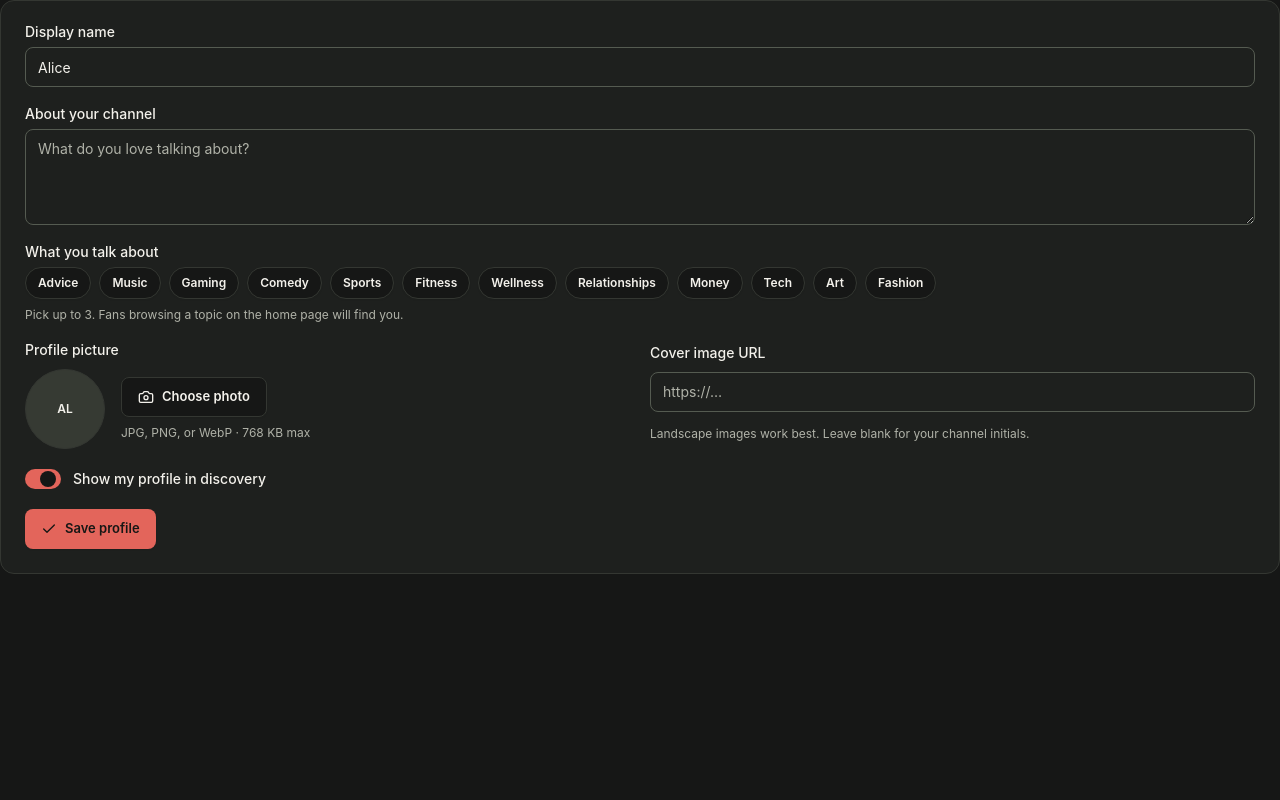
saves real profile fields and keeps a success confirmation after refetch
Replace the text in the field labelled "Display name" with "Alice Creates" at x=640, y=67, box top-left (25, 47), bottom-right (1255, 87)
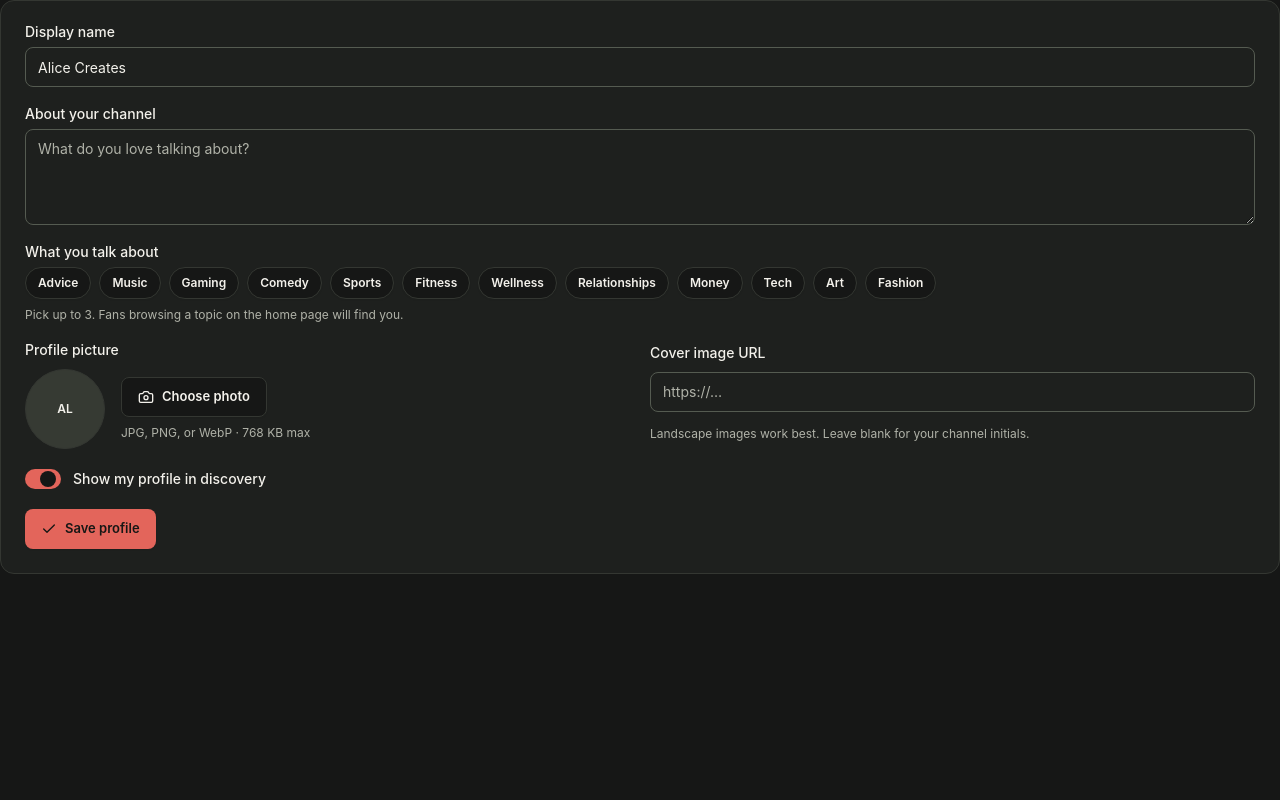
Type "Ceramics and conversation" into the text box labelled "About your channel".
click(640, 177); type("Ceramics and conversation")  # box top-left (25, 129), bottom-right (1255, 225)
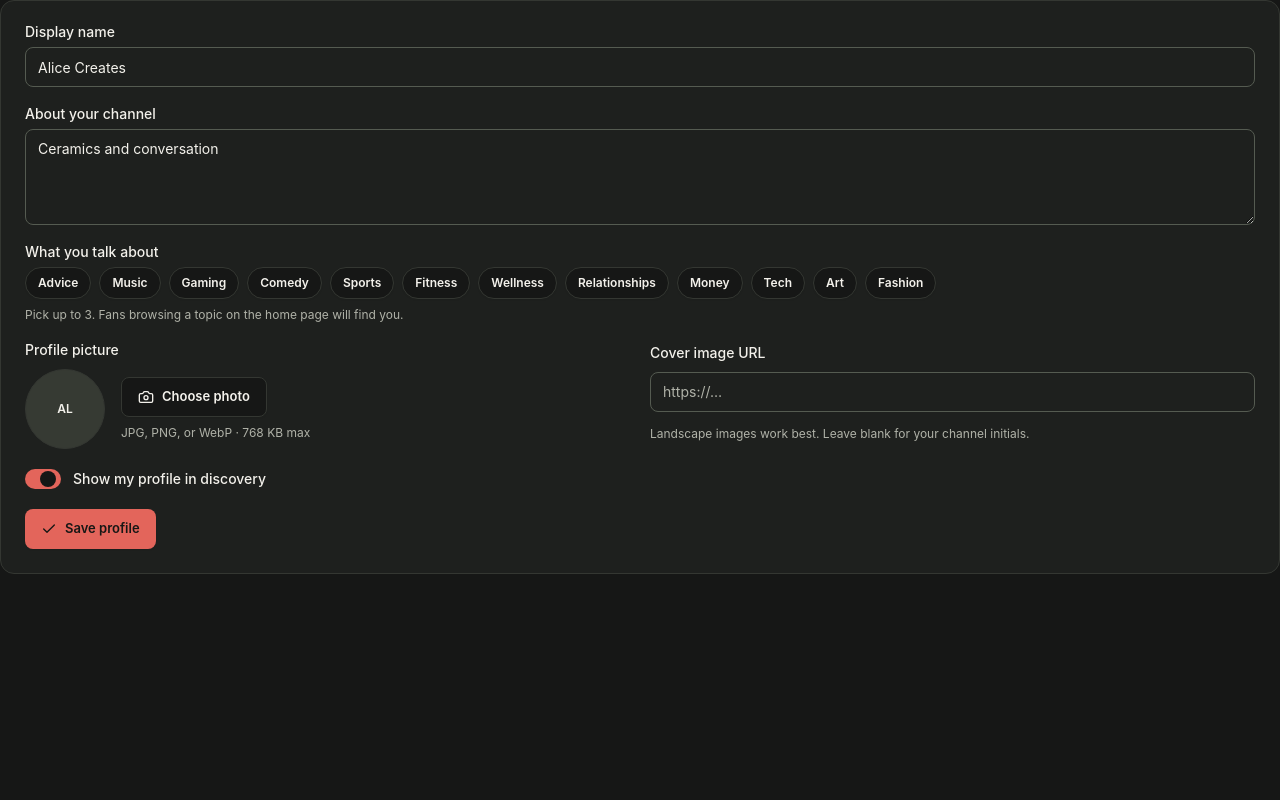
Click the button "Save profile".
click(90, 529)  # box top-left (25, 509), bottom-right (156, 549)
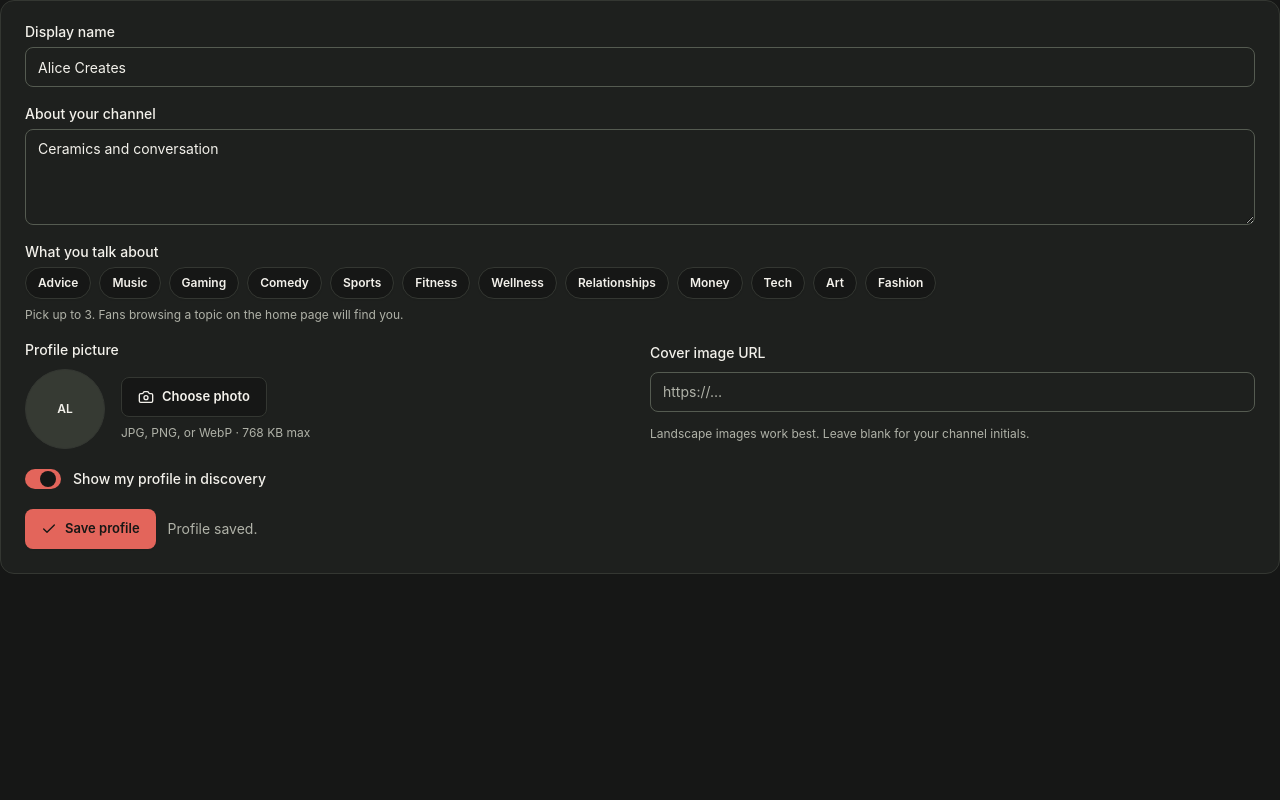
expect the message reads "Profile saved.": met, box top-left (168, 520), bottom-right (258, 537)
